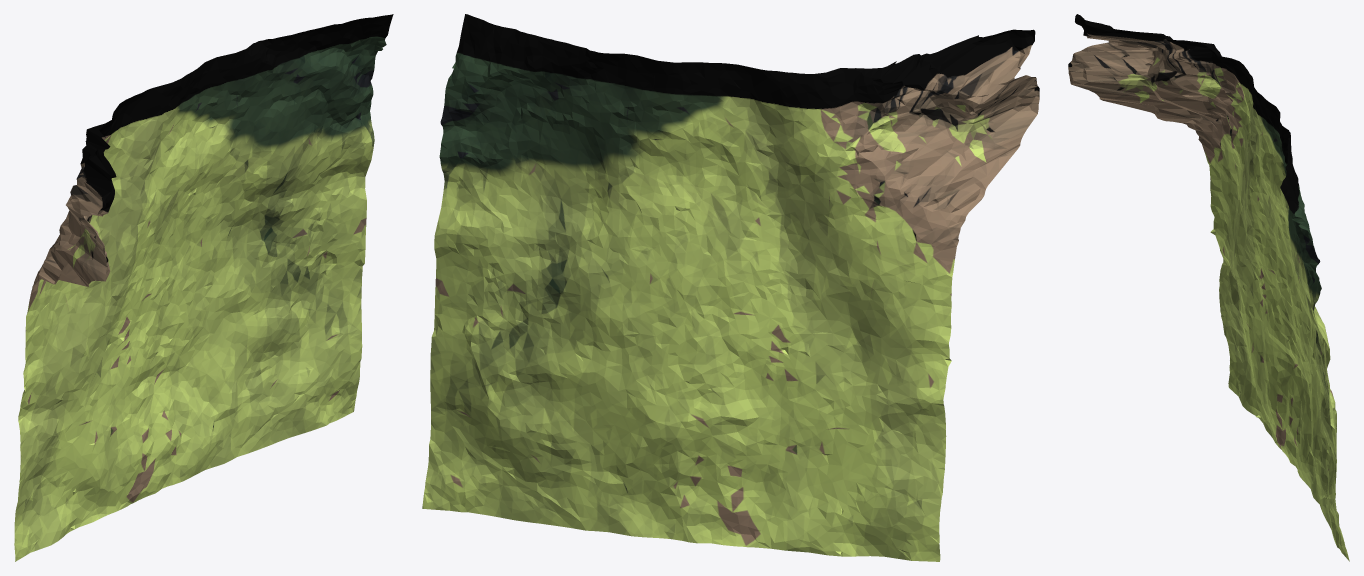
The model's file is southtile.obj.
The picture shows the model from 3 angles, left to right: view 1: azimuth 30°, elevation 25°; view 2: azimuth 150°, elevation 25°; view 3: azimuth 270°, elevation 25°; orthographic projection. The views are drawn at different scales.
Parts seen in each view (by area): view 1: merged_model_10_7; view 2: merged_model_10_7; view 3: merged_model_10_7.
Boxes of the visible parts, bbox=[...] form: merged_model_10_7: bbox=[14, 14, 393, 561]; merged_model_10_7: bbox=[422, 14, 1039, 561]; merged_model_10_7: bbox=[1068, 14, 1349, 561].
Size of the model in its own units: 500 by 501 by 341.
Materials: 1 (1 with a texture image).
